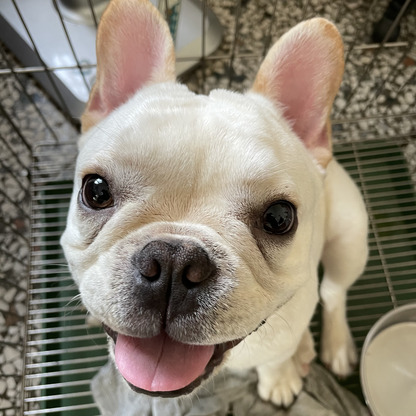bulldog: (62, 5, 376, 410)
